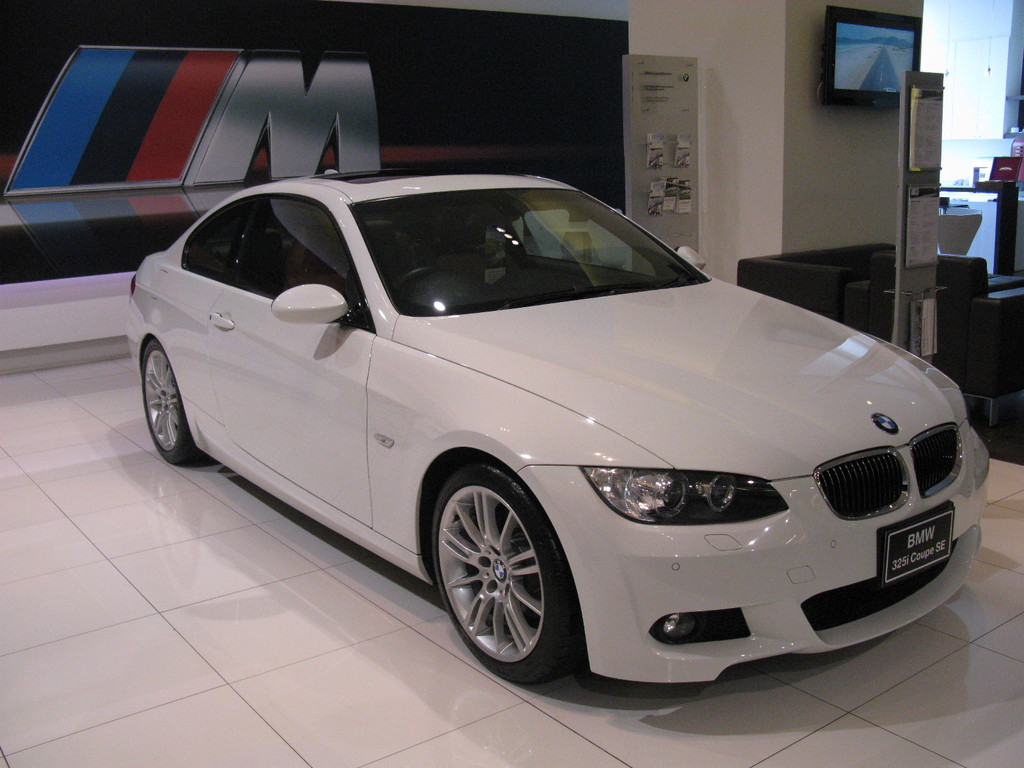Car: (127, 164, 990, 681)
